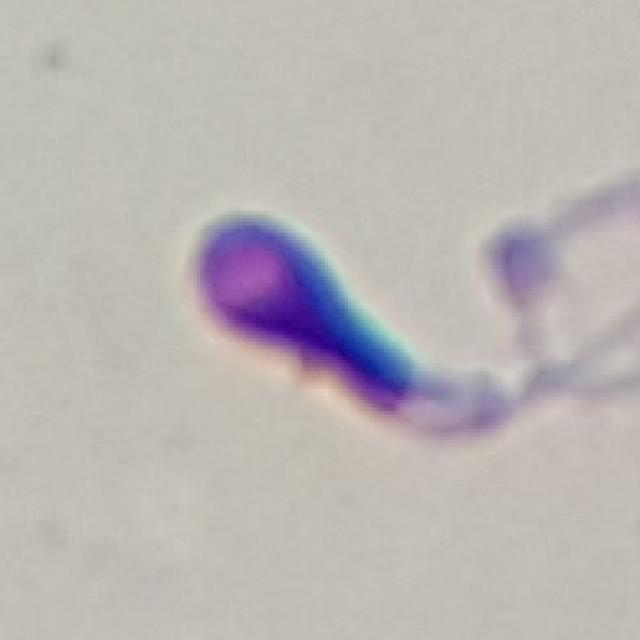abnormal sperm: (188, 196, 634, 447)
